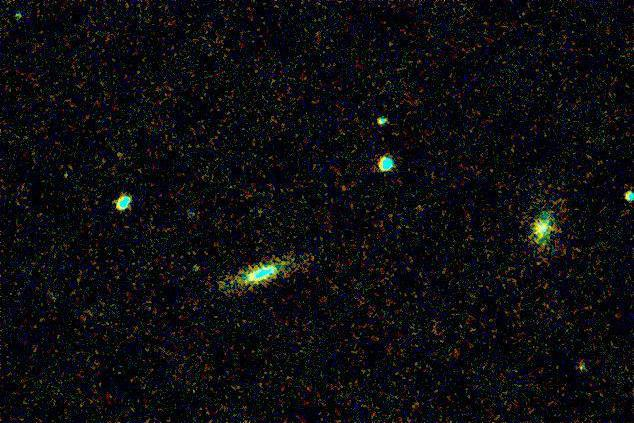star: (179, 253, 209, 283)
